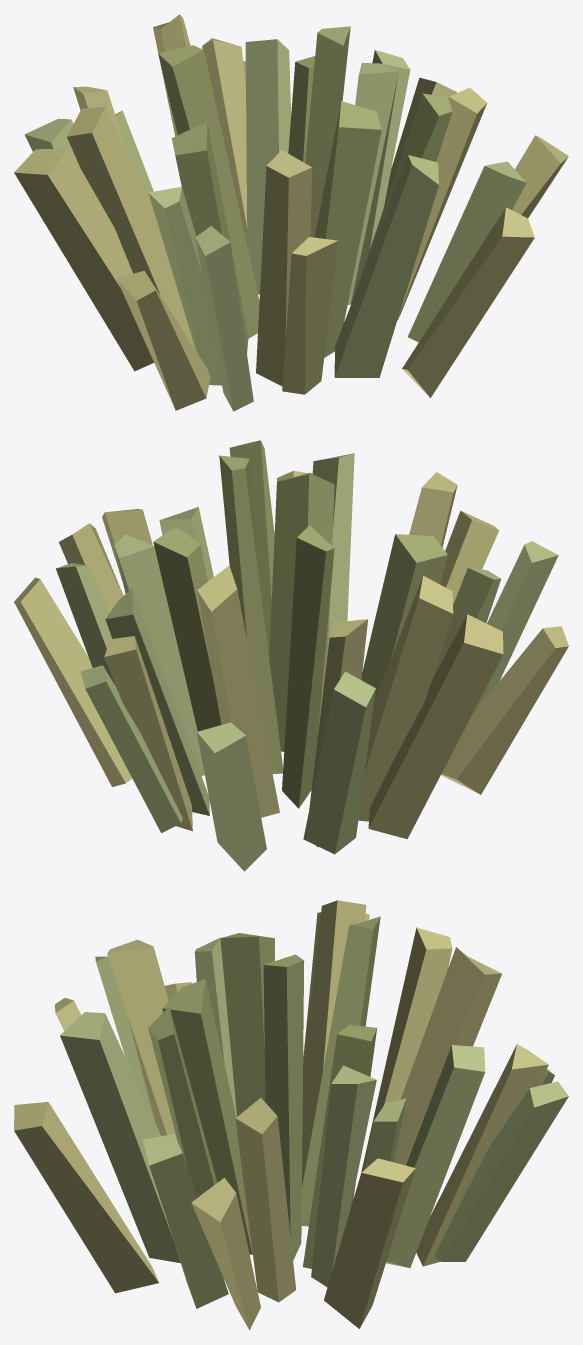
File: desert_scrub.glb
3 renders of one model, top to bottom at view 1: azimuth 30°, elevation 25°; view 2: azimuth 150°, elevation 25°; view 3: azimuth 270°, elevation 25°, orthographic. The views are drawn at different scales.
Visible parts, largest first — view 1: desert_scrub; view 2: desert_scrub; view 3: desert_scrub.
Boxes of the visible parts, bbox=[...] form: desert_scrub: bbox=[14, 14, 568, 411]; desert_scrub: bbox=[14, 440, 568, 871]; desert_scrub: bbox=[14, 900, 568, 1330].
Size of the model in its own units: 1.98 by 1.2 by 1.84.
